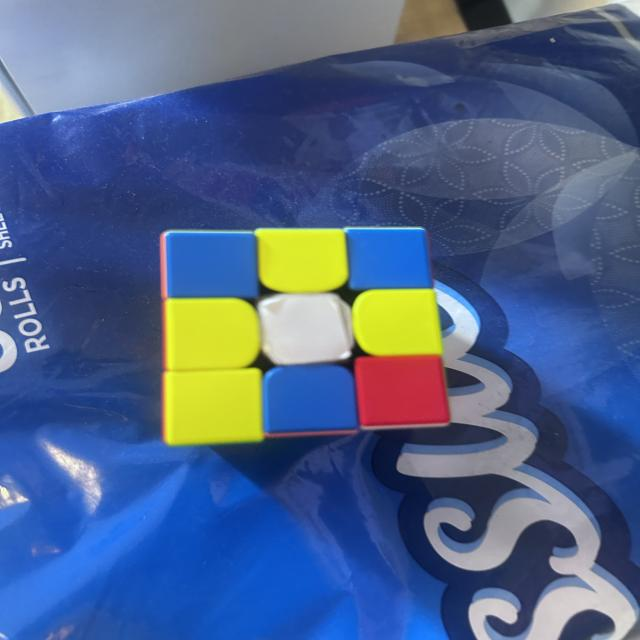sticker: (352, 352, 454, 434), (162, 368, 264, 447), (162, 297, 264, 372), (257, 291, 358, 366), (263, 363, 359, 438), (162, 230, 260, 302), (255, 228, 351, 296), (352, 289, 444, 359), (343, 227, 433, 294)
